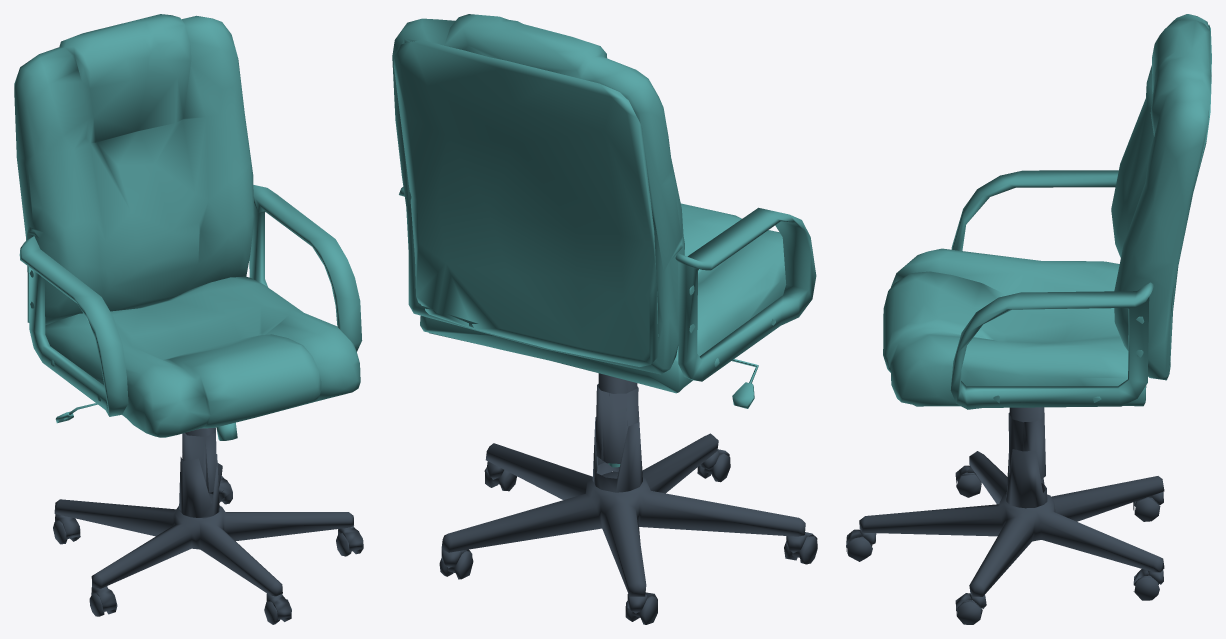
Rendered from office_chair_lod1.glb.
3 views of the same model, side by side, from view 1: azimuth 30°, elevation 25°; view 2: azimuth 150°, elevation 25°; view 3: azimuth 270°, elevation 25° (orthographic). The views are drawn at different scales.
Parts seen in each view (by area): view 1: NVIDIA_OfficeChair.001; view 2: NVIDIA_OfficeChair.001; view 3: NVIDIA_OfficeChair.001.
Part boxes in pixels (x1=…): NVIDIA_OfficeChair.001: x1=14, y1=14, x2=363, y2=624; NVIDIA_OfficeChair.001: x1=392, y1=14, x2=817, y2=624; NVIDIA_OfficeChair.001: x1=846, y1=14, x2=1211, y2=624.
Bounding box in the file's own units: 0.7116 × 1.25 × 0.807.
